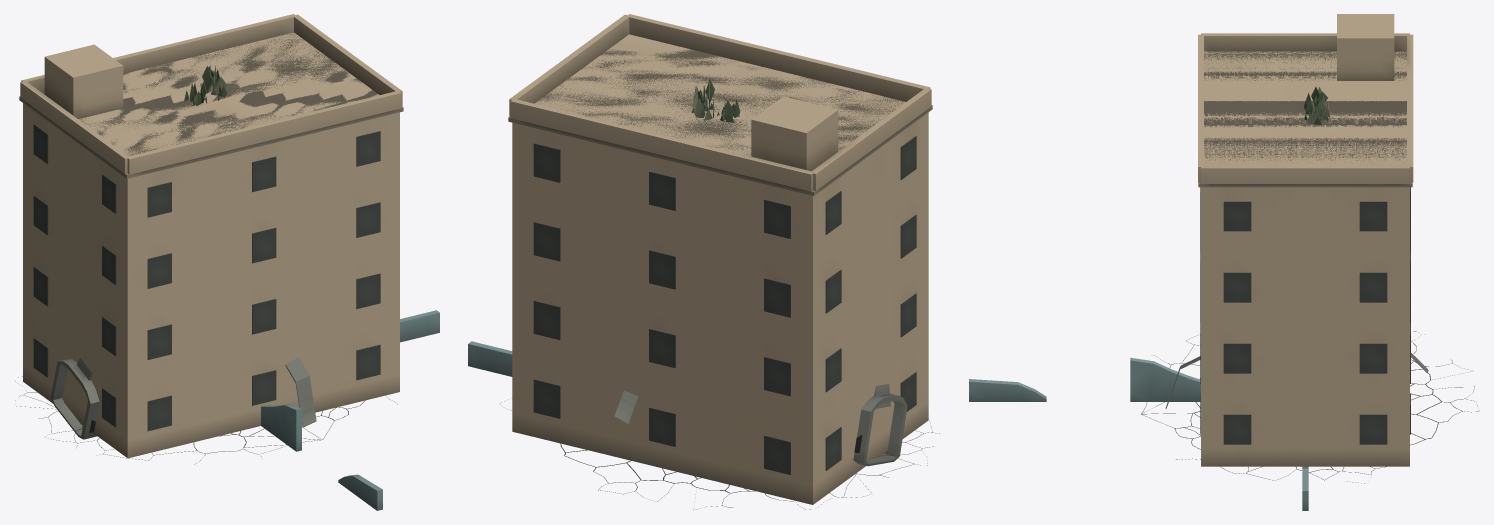
The model's file is crash.glb.
3 renders of one model, left to right at view 1: azimuth 30°, elevation 25°; view 2: azimuth 150°, elevation 25°; view 3: azimuth 270°, elevation 25°, orthographic. The views are drawn at different scales.
Visible parts, largest first — view 1: city-tall, helicopter, blue-wall-broken, blue-edge-south, blue-edge-east, tree-crown, impact-cracks; view 2: city-tall, helicopter, blue-edge-south, tree-crown, impact-cracks; view 3: city-tall, blue-wall-broken, blue-edge-east, impact-cracks, tree-crown.
Part boxes in pixels (x1,y1,x2,y2): city-tall: (19, 14, 403, 458); helicopter: (50, 357, 316, 439); blue-wall-broken: (261, 404, 301, 451); blue-edge-south: (400, 310, 439, 342); blue-edge-east: (338, 474, 382, 510); tree-crown: (184, 65, 227, 105); impact-cracks: (15, 376, 397, 464); city-tall: (508, 14, 932, 504); helicopter: (614, 384, 907, 466); blue-edge-south: (468, 341, 512, 376); tree-crown: (691, 79, 740, 122); impact-cracks: (504, 399, 939, 510); city-tall: (1198, 14, 1413, 466); blue-wall-broken: (1130, 357, 1200, 401); blue-edge-east: (969, 379, 1046, 401); impact-cracks: (1141, 331, 1479, 483); tree-crown: (1304, 86, 1330, 124).
Bounding box in the file's own units: 17.83 × 14.04 × 19.55.
